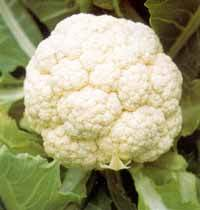cauliflower: (22, 14, 183, 171)
